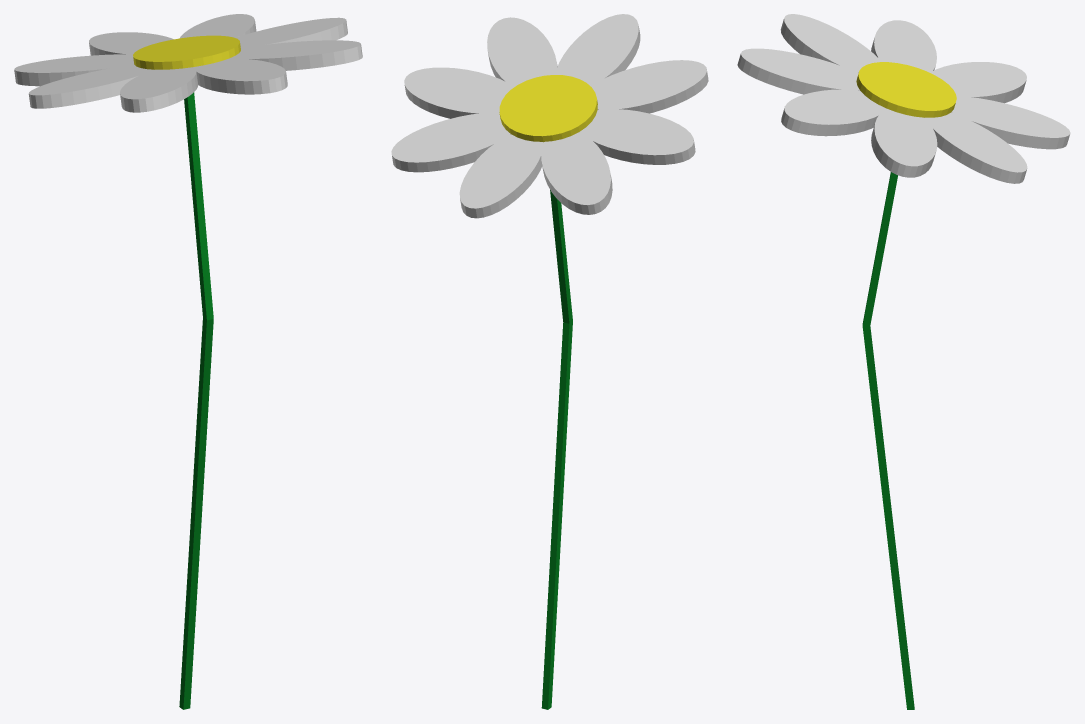
Rendered from Romashka.fbx.
3 renders of one model, left to right at view 1: azimuth 30°, elevation 25°; view 2: azimuth 150°, elevation 25°; view 3: azimuth 270°, elevation 25°, orthographic. The views are drawn at different scales.
Visible parts, largest first — view 1: Cylinder; view 2: Cylinder; view 3: Cylinder.
Part boxes in pixels (x1=…): Cylinder: x1=14, y1=14, x2=362, y2=709; Cylinder: x1=391, y1=14, x2=708, y2=709; Cylinder: x1=737, y1=14, x2=1070, y2=709.
Bounding box in the file's own units: 0.2911 × 0.6163 × 0.2842.
